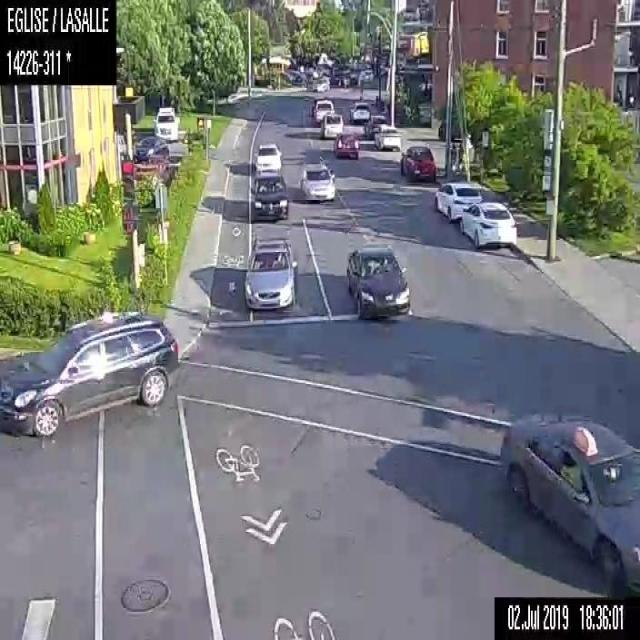vehicle: (499, 412, 639, 593), (0, 311, 181, 437), (344, 242, 411, 318), (242, 233, 297, 308), (459, 203, 516, 246), (431, 178, 482, 222), (250, 175, 288, 224), (300, 157, 335, 203), (399, 142, 434, 182), (134, 134, 169, 162), (253, 142, 283, 173), (371, 124, 403, 151), (154, 105, 178, 139), (318, 112, 344, 138), (333, 134, 359, 160), (362, 113, 387, 139), (312, 99, 333, 122), (350, 100, 369, 121), (311, 77, 331, 92)
